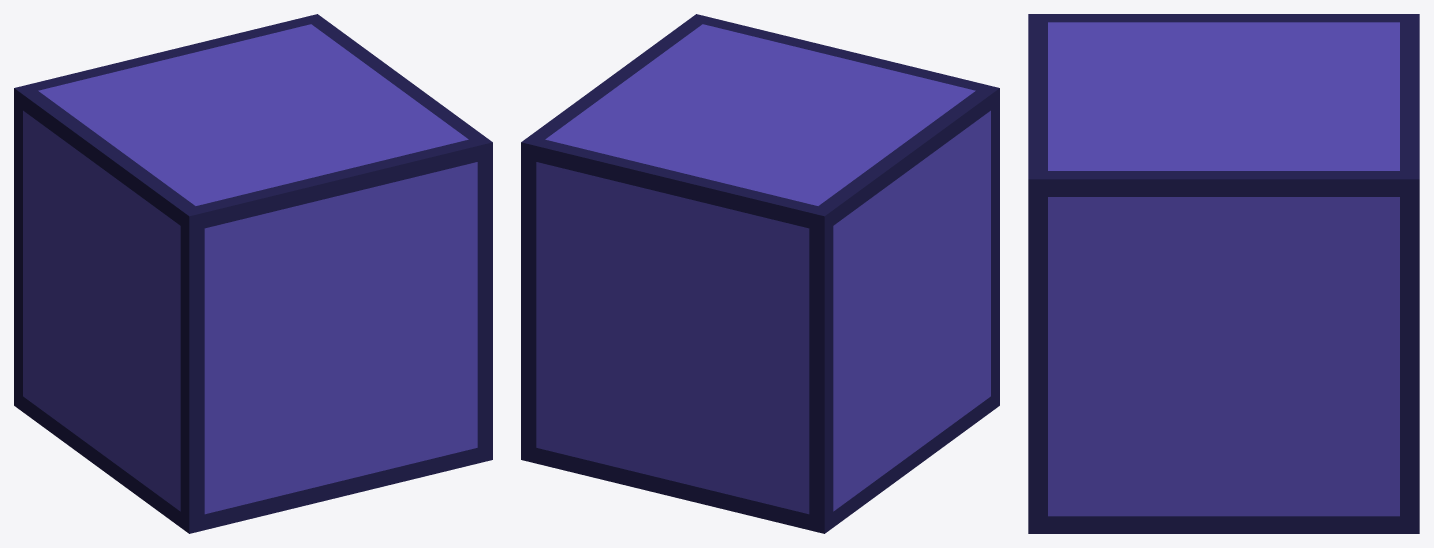
File: floorDark.obj
3 views of the same model, side by side, from view 1: azimuth 30°, elevation 25°; view 2: azimuth 150°, elevation 25°; view 3: azimuth 270°, elevation 25° (orthographic). The views are drawn at different scales.
Size of the model in its own units: 4 by 4 by 4.
Materials: 1 (1 with a texture image).
